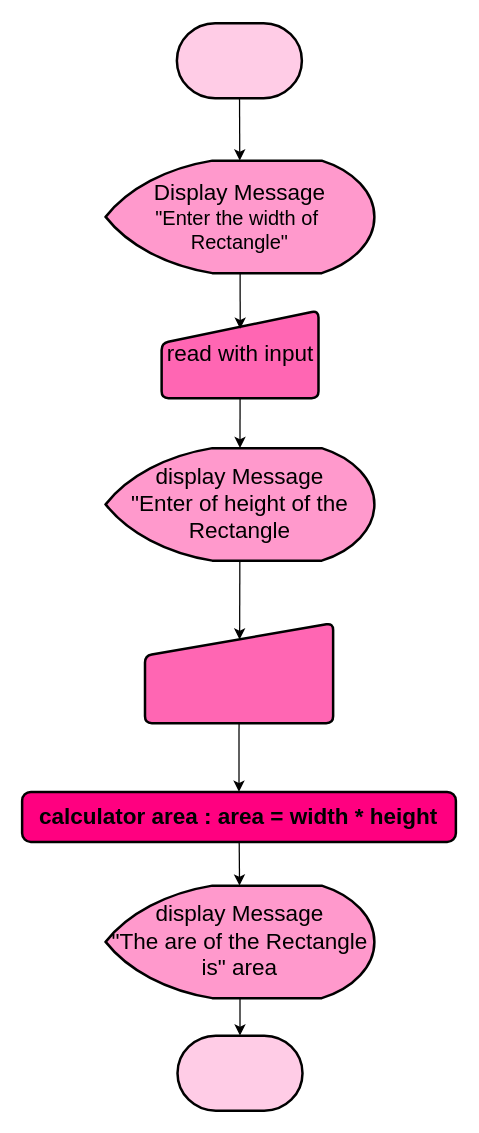
The diagram is 479 pixels wide and 1133 high, and some of its shapes have lost their labels. The box of each missing label's shape, as (x1, y1, x2, y2) in pixels:
End: (176, 1034, 303, 1111)
read height input: (143, 621, 334, 724)
Start: (175, 21, 302, 99)
